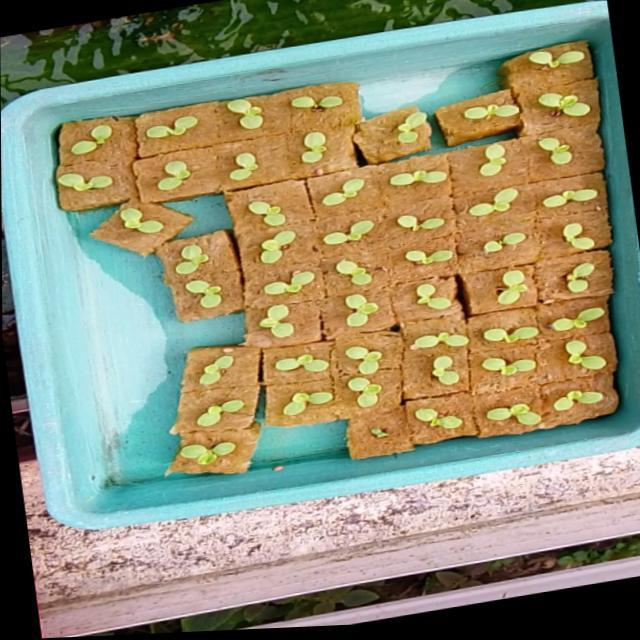Baby: (113, 202, 174, 241), (56, 121, 121, 157), (513, 135, 580, 165), (274, 345, 329, 377), (239, 229, 293, 261), (134, 116, 195, 144), (468, 231, 531, 258), (408, 276, 455, 310), (563, 261, 607, 296), (259, 264, 310, 294), (546, 304, 607, 329), (76, 158, 132, 185), (465, 187, 514, 215), (168, 237, 206, 273), (179, 436, 235, 459), (196, 394, 243, 421), (321, 218, 371, 243), (486, 401, 540, 423), (495, 268, 528, 304), (259, 301, 294, 334), (565, 338, 604, 367), (345, 290, 378, 324), (409, 329, 468, 348), (224, 98, 260, 129), (245, 196, 283, 225), (414, 404, 462, 426), (283, 392, 331, 414), (550, 388, 600, 409), (539, 187, 593, 206), (199, 351, 233, 381), (345, 343, 381, 371), (158, 159, 190, 190), (347, 372, 380, 402), (392, 211, 444, 230), (482, 324, 537, 341), (333, 258, 369, 283), (475, 143, 503, 175), (558, 222, 591, 248), (185, 283, 220, 307), (431, 353, 458, 383), (299, 131, 325, 162), (328, 178, 359, 203), (228, 151, 255, 179), (402, 247, 449, 263), (491, 357, 533, 373)
